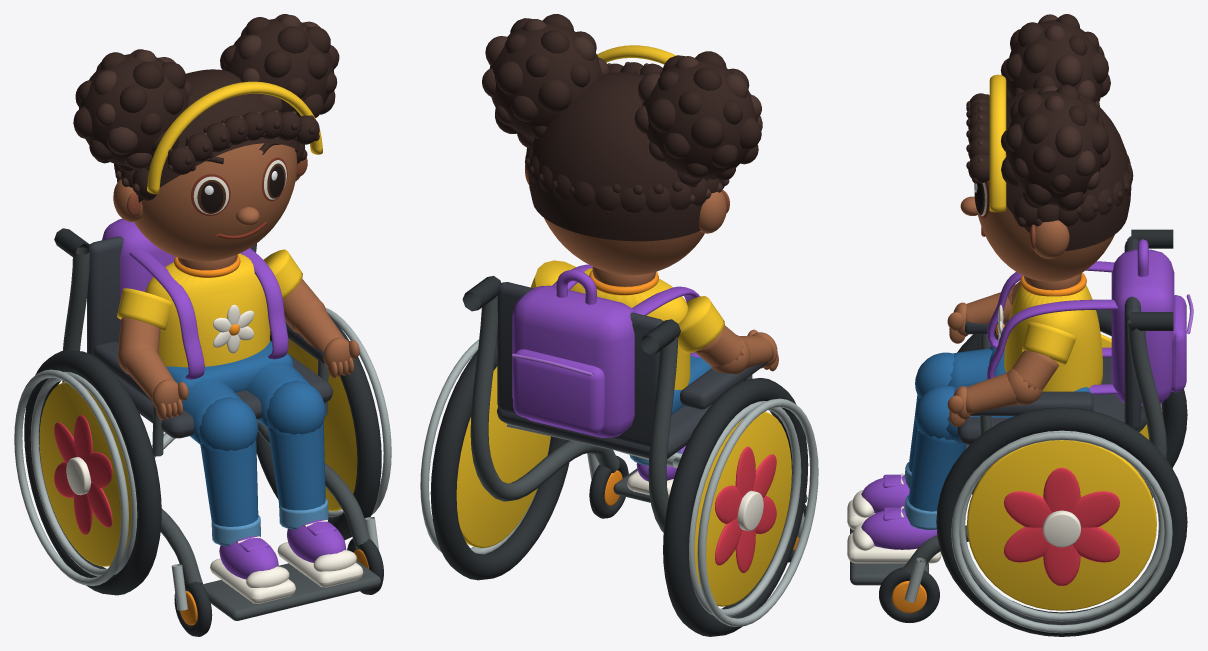
File: child_wheelchair.glb
3 views of the same model, side by side, from view 1: azimuth 30°, elevation 25°; view 2: azimuth 150°, elevation 25°; view 3: azimuth 270°, elevation 25° (orthographic). The views are drawn at different scales.
Parts seen in each view (by area): view 1: head_surface, wheel_-1_tire, yellow_tshirt, wheel_-1_orange_guard, wheel_1_tire, wheel_-1_handrim, puff_L_core, jeans_shin_1, jeans_shin_-1, hair_scalp, chair_footrest, chair_backrest (+51 smaller); view 2: hair_scalp, wheel_-1_tire, backpack_body, wheel_1_tire, wheel_-1_orange_guard, wheel_1_orange_guard, backpack_pocket, frame_1, puff_L_core, chair_backrest, wheel_-1_handrim, puff_R_core (+34 smaller); view 3: wheel_1_orange_guard, wheel_1_tire, backpack_body, wheel_1_handrim, yellow_tshirt, head_surface, puff_R_core, hair_scalp, wheel_1_silver_rim, frame_1, jeans_shin_1, puff_L_core (+42 smaller).
Boxes of the visible parts, <box> form: head_surface: <box>134,143,297,261</box>; wheel_-1_tire: <box>24,350,161,595</box>; yellow_tshirt: <box>145,253,270,367</box>; wheel_-1_orange_guard: <box>39,382,131,566</box>; wheel_1_tire: <box>256,312,381,540</box>; wheel_-1_handrim: <box>14,369,128,585</box>; puff_L_core: <box>79,53,188,165</box>; jeans_shin_1: <box>267,421,325,510</box>; jeans_shin_-1: <box>200,438,258,526</box>; hair_scalp: <box>117,69,300,202</box>; chair_footrest: <box>202,560,381,620</box>; chair_backrest: <box>87,236,123,355</box>; hair_scalp: <box>528,72,702,241</box>; wheel_-1_tire: <box>663,378,808,636</box>; backpack_body: <box>512,285,636,437</box>; wheel_1_tire: <box>430,339,569,580</box>; wheel_-1_orange_guard: <box>694,411,791,606</box>; wheel_1_orange_guard: <box>456,366,550,547</box>; backpack_pocket: <box>513,349,605,433</box>; frame_1: <box>470,295,619,501</box>; puff_L_core: <box>642,60,757,178</box>; chair_backrest: <box>497,282,663,446</box>; wheel_-1_handrim: <box>697,398,818,626</box>; puff_R_core: <box>489,23,602,137</box>; wheel_1_orange_guard: <box>967,440,1156,610</box>; wheel_1_tire: <box>936,407,1187,636</box>; backpack_body: <box>1111,249,1174,405</box>; wheel_1_handrim: <box>951,432,1172,633</box>; yellow_tshirt: <box>1004,285,1102,395</box>; head_surface: <box>974,179,1114,281</box>; puff_R_core: <box>1006,90,1103,205</box>; hair_scalp: <box>1006,87,1131,250</box>; wheel_1_silver_rim: <box>959,430,1164,621</box>; frame_1: <box>903,318,1167,574</box>; jeans_shin_1: <box>908,428,966,511</box>; puff_L_core: <box>1006,20,1103,102</box>.
Bounding box in the file's own units: 0.6711 × 1.25 × 0.7468.
